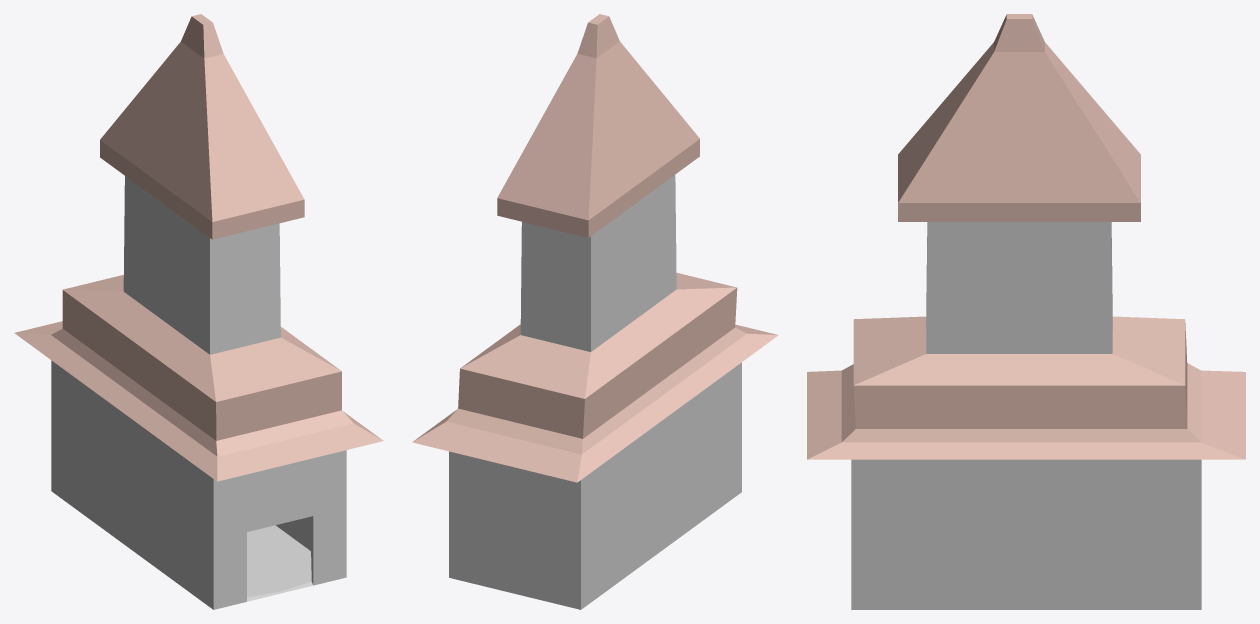
File: rookery.fbx
3 views of the same model, side by side, from view 1: azimuth 30°, elevation 25°; view 2: azimuth 150°, elevation 25°; view 3: azimuth 270°, elevation 25° (orthographic). The views are drawn at different scales.
Parts seen in each view (by area): view 1: Cube.002; view 2: Cube.002; view 3: Cube.002.
Part boxes in pixels (x1,y1,x2,y2): Cube.002: (14, 14, 383, 609); Cube.002: (412, 14, 778, 609); Cube.002: (807, 14, 1245, 609).
Bounding box in the file's own units: 250 × 743 × 529.
